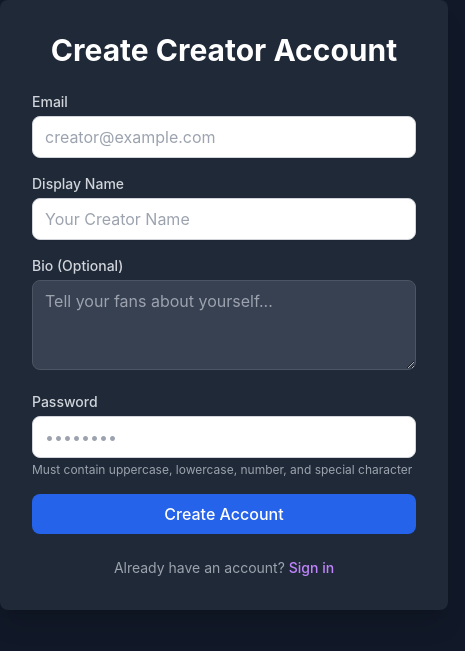
Scenario: Form validation › should validate password requirements in registration form
// Enter weak password
Type "test@example.com" into the field labelled "Email".
click(224, 137); type("test@example.com")  # box x1=32 y1=116 x2=416 y2=158
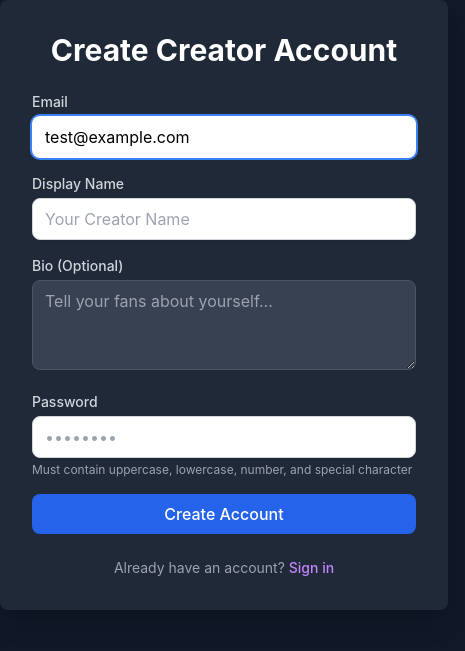
Type "Test User" into the field labelled "Display Name".
click(224, 219); type("Test User")  # box x1=32 y1=198 x2=416 y2=240
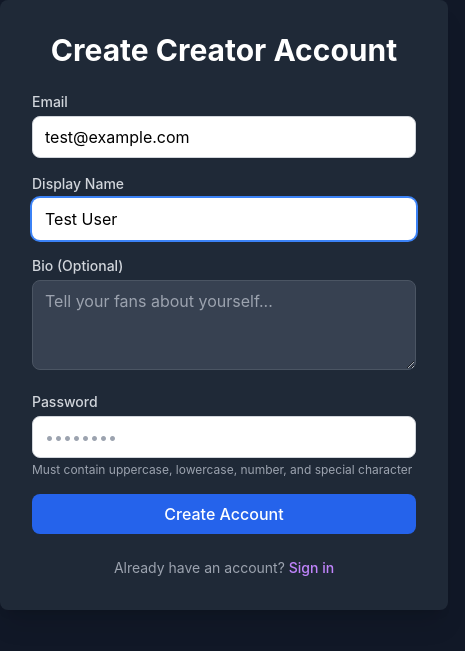
Type "weak" into the password field labelled "Password".
click(224, 437); type("weak")  # box x1=32 y1=416 x2=416 y2=458
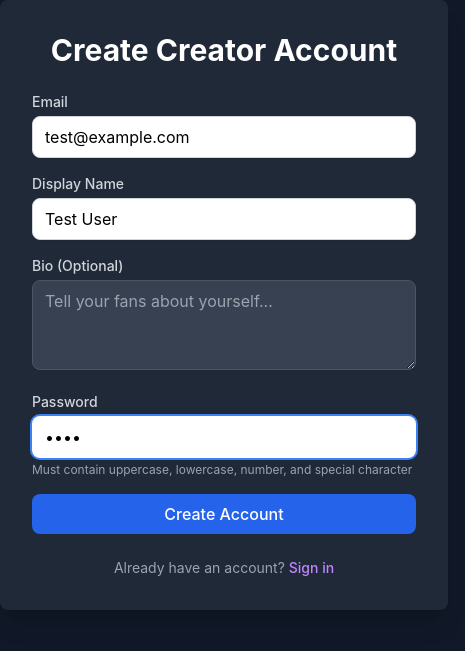
Click the button "Create Account".
click(224, 514)  # box x1=32 y1=494 x2=416 y2=534
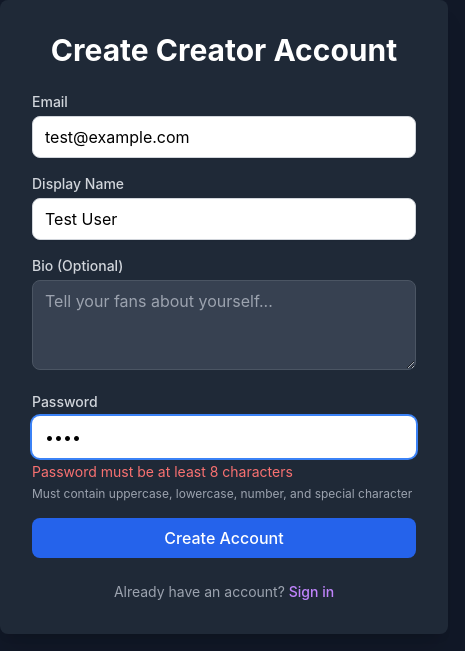
Expected: the text "Password must be at least 8 characters" is shown, x1=32 y1=463 x2=293 y2=480
